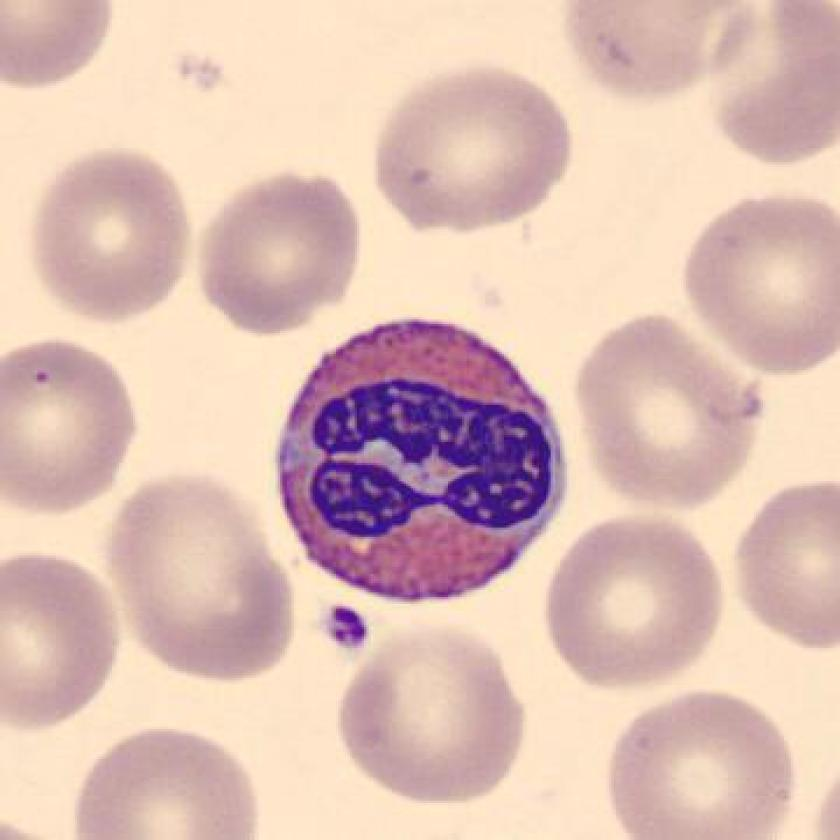eosinophil: (263, 304, 585, 626)
